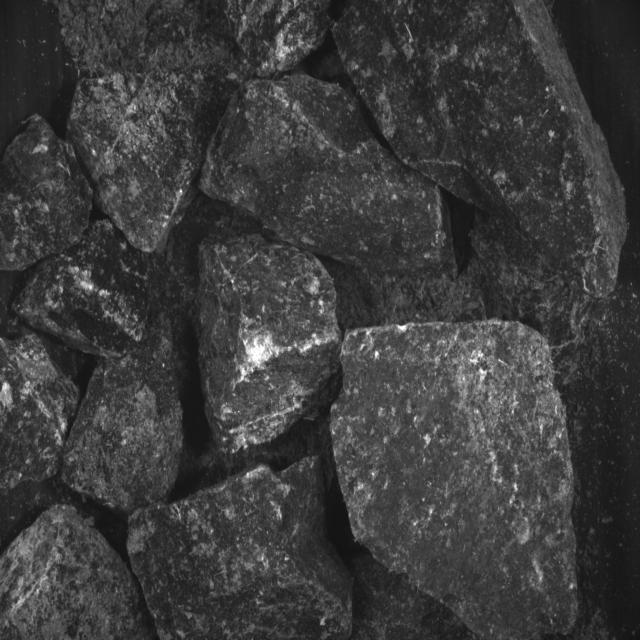Stones: (335, 1, 627, 298), (332, 321, 579, 639), (59, 1, 332, 253), (201, 75, 456, 273), (129, 458, 352, 640), (200, 235, 342, 453), (62, 314, 184, 515), (1, 506, 156, 640), (15, 221, 150, 359), (1, 116, 94, 272), (1, 335, 80, 491), (101, 588, 102, 590)
